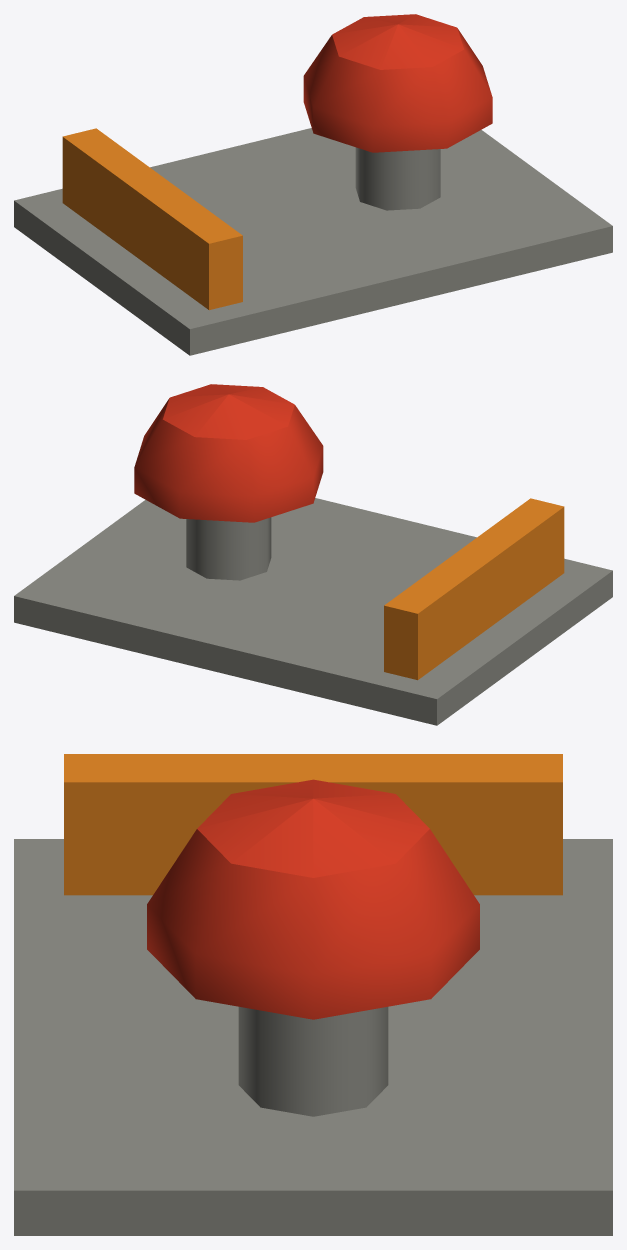
Rendered from refuge100_beacon.obj.
The picture shows the model from 3 angles, top to bottom: view 1: azimuth 30°, elevation 25°; view 2: azimuth 150°, elevation 25°; view 3: azimuth 270°, elevation 25°; orthographic projection. The views are drawn at different scales.
Parts seen in each view (by area): view 1: refuge100_beacon; view 2: refuge100_beacon; view 3: refuge100_beacon.
Boxes of the visible parts, x1=… form: refuge100_beacon: x1=14, y1=14, x2=612, y2=355; refuge100_beacon: x1=14, y1=384, x2=612, y2=725; refuge100_beacon: x1=14, y1=754, x2=612, y2=1235.
Size of the model in its own units: 0.5 by 0.22 by 0.36.
